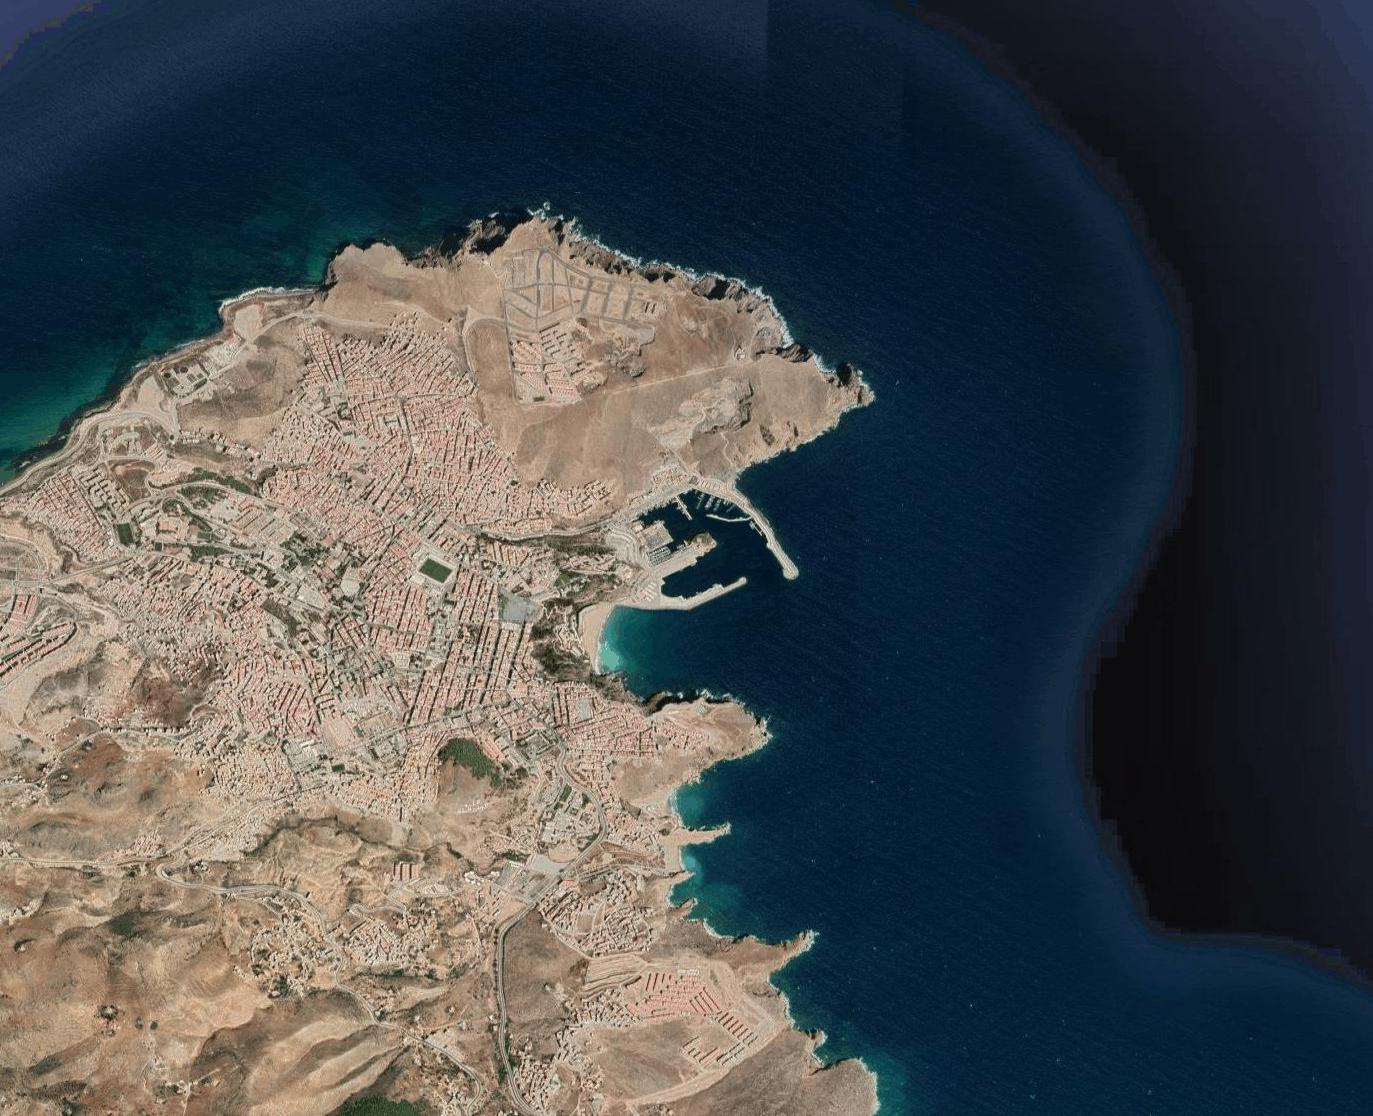harbor: (618, 475, 792, 612)
